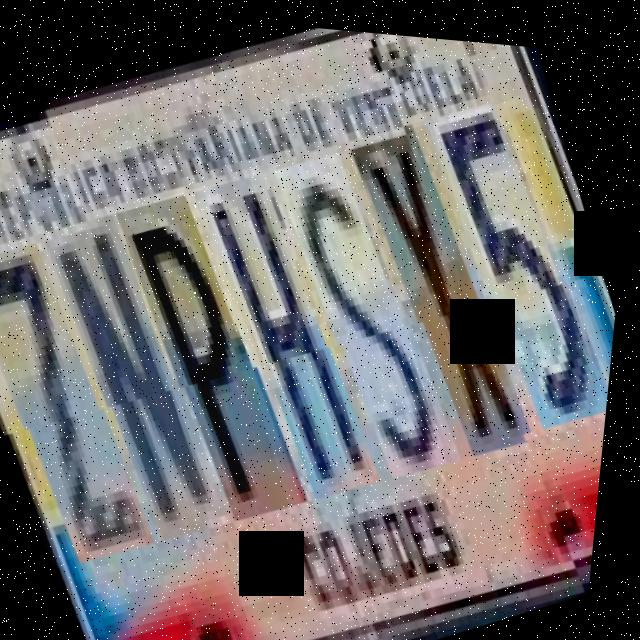5: (406, 81, 636, 436)
H: (176, 152, 407, 506)
N: (24, 196, 255, 543)
P: (98, 174, 333, 529)
S: (255, 129, 485, 483)
X: (333, 107, 559, 459)
Z: (0, 220, 177, 569)
